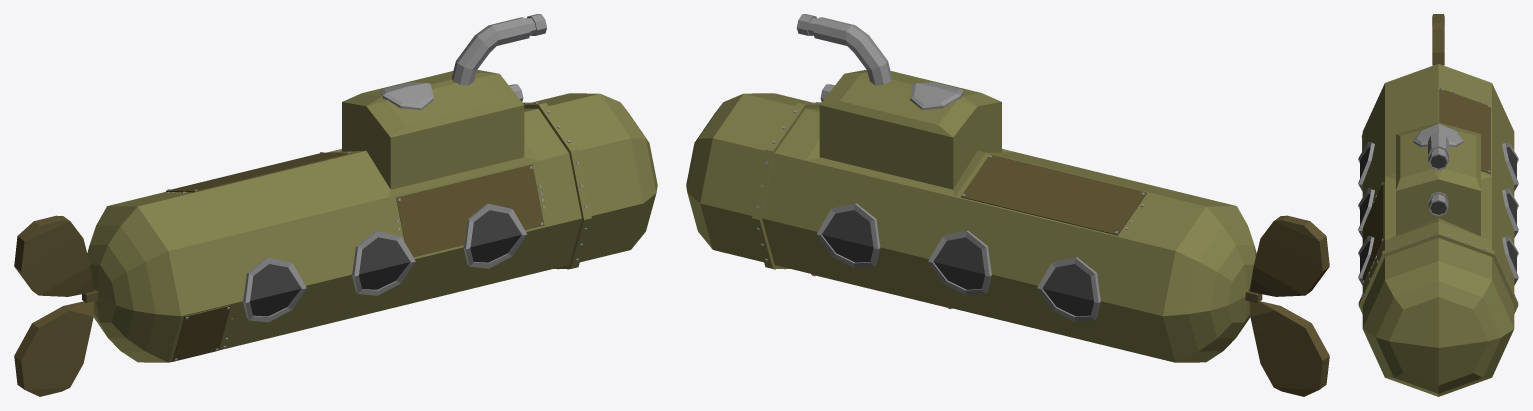
File: YellowSubmarine.fbx
3 views of the same model, side by side, from view 1: azimuth 30°, elevation 25°; view 2: azimuth 150°, elevation 25°; view 3: azimuth 270°, elevation 25° (orthographic). The views are drawn at different scales.
Parts seen in each view (by area): view 1: YellowSubmarine, YellowSubmarinePropeller, YellowSubmarinePeriscope; view 2: YellowSubmarine, YellowSubmarinePropeller, YellowSubmarinePeriscope; view 3: YellowSubmarine, YellowSubmarinePeriscope, YellowSubmarinePropeller.
Part boxes in pixels (x1=…): YellowSubmarine: x1=87, y1=70, x2=657, y2=362; YellowSubmarinePropeller: x1=14, y1=215, x2=98, y2=396; YellowSubmarinePeriscope: x1=451, y1=14, x2=546, y2=85; YellowSubmarine: x1=686, y1=69, x2=1256, y2=362; YellowSubmarinePropeller: x1=1245, y1=215, x2=1329, y2=396; YellowSubmarinePeriscope: x1=796, y1=14, x2=892, y2=85; YellowSubmarine: x1=1358, y1=64, x2=1518, y2=396; YellowSubmarinePeriscope: x1=1428, y1=132, x2=1448, y2=170; YellowSubmarinePropeller: x1=1432, y1=14, x2=1444, y2=65.
Bounding box in the file's own units: 2324 × 914 × 589.
